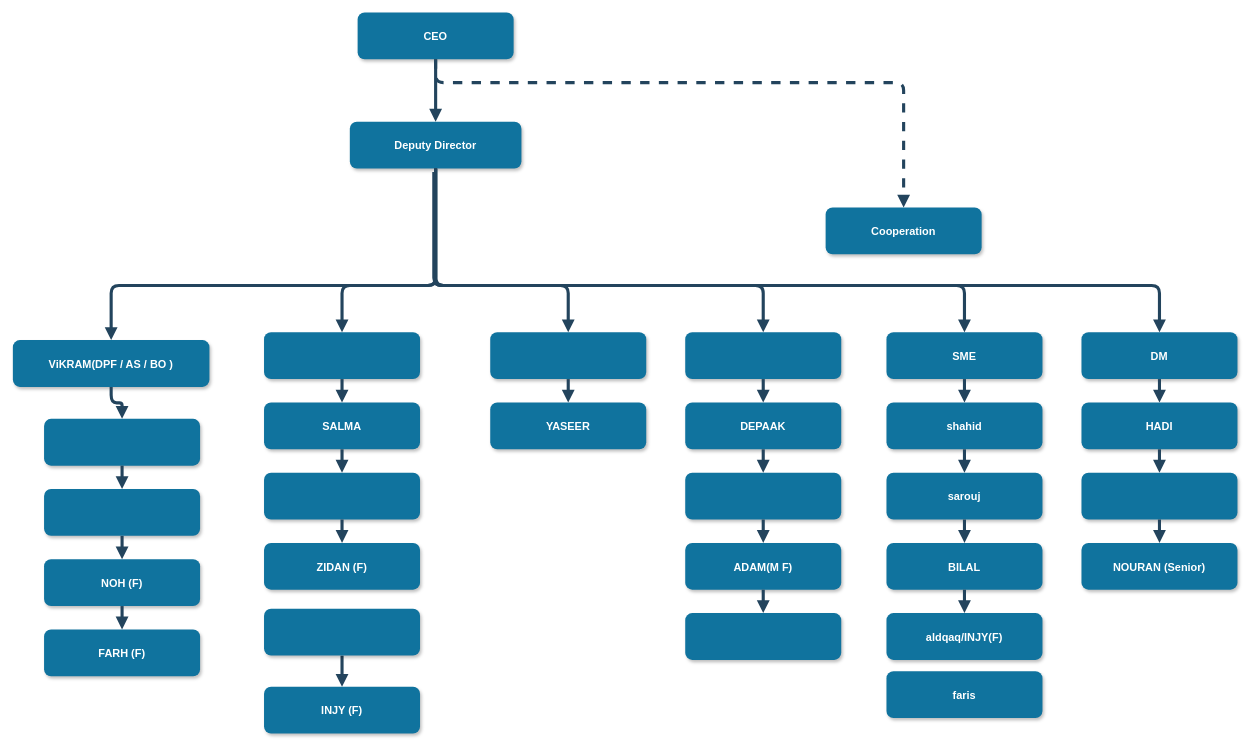
The diagram is 1250 pixels wide and 746 high, and some of its shapes have lost their labels. Each missing label, with the centre of its shape:
"adel (F)" belongs at pixel 342 633.
"ALI (F)" belongs at pixel 764 637.
"APPLE" belongs at pixel 764 356.
"BNPL(HAMEED)" belongs at pixel 569 356.
"MOUSA" belongs at pixel 122 443.
"NADA SAMY" belongs at pixel 764 497.
"NADA Tlaat" belongs at pixel 342 497.
"OMAR" belongs at pixel 122 513.
"SAIF TDH (Consultant)" belongs at pixel 1160 497.
"YASHWANCE(MF - BAU - CC -)" belongs at pixel 342 356.
